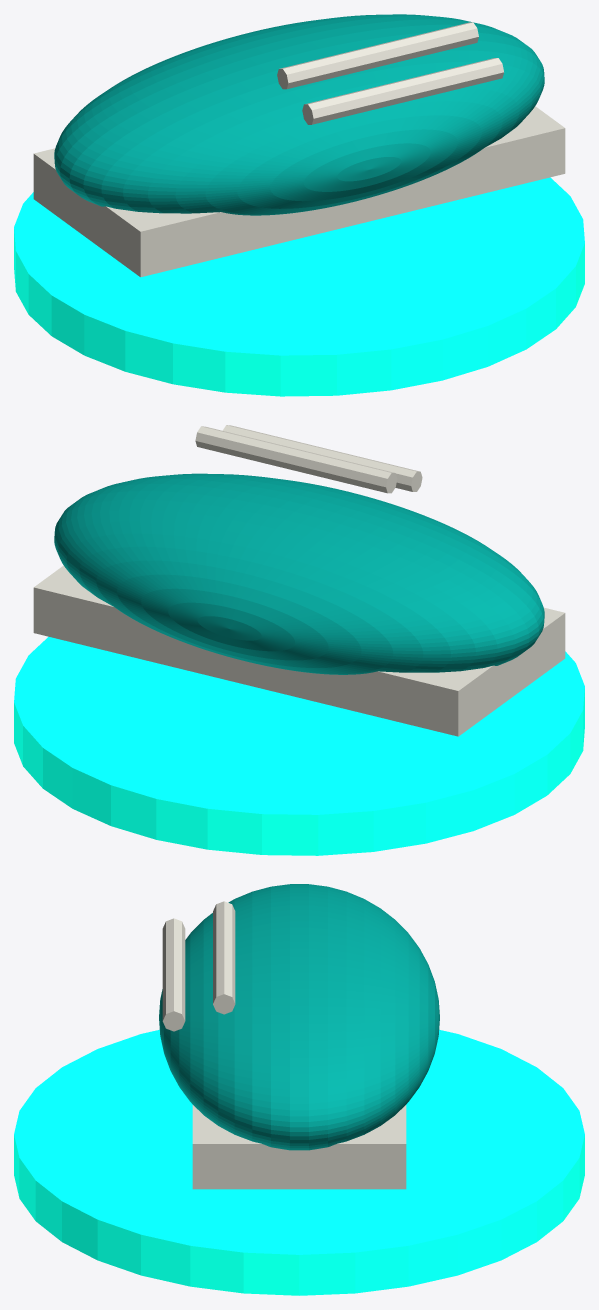
The model's file is fashion_sneaker.dae.
3 renders of one model, top to bottom at view 1: azimuth 30°, elevation 25°; view 2: azimuth 150°, elevation 25°; view 3: azimuth 270°, elevation 25°, orthographic.
Visible parts, largest first — view 1: 06_03_Popular_Fashion_Sneaker_ROOT_base, 06_03_Popular_Fashion_Sneaker_part_01, 06_03_Popular_Fashion_Sneaker_part_02, 06_03_Popular_Fashion_Sneaker_part_04, 06_03_Popular_Fashion_Sneaker_part_03; view 2: 06_03_Popular_Fashion_Sneaker_ROOT_base, 06_03_Popular_Fashion_Sneaker_part_01, 06_03_Popular_Fashion_Sneaker_part_02, 06_03_Popular_Fashion_Sneaker_part_04, 06_03_Popular_Fashion_Sneaker_part_03; view 3: 06_03_Popular_Fashion_Sneaker_ROOT_base, 06_03_Popular_Fashion_Sneaker_part_01, 06_03_Popular_Fashion_Sneaker_part_02, 06_03_Popular_Fashion_Sneaker_part_03, 06_03_Popular_Fashion_Sneaker_part_04.
Part boxes in pixels (<box>): 06_03_Popular_Fashion_Sneaker_ROOT_base: <box>14,177,584,396</box>; 06_03_Popular_Fashion_Sneaker_part_01: <box>54,14,544,215</box>; 06_03_Popular_Fashion_Sneaker_part_02: <box>33,106,565,277</box>; 06_03_Popular_Fashion_Sneaker_part_04: <box>277,22,478,89</box>; 06_03_Popular_Fashion_Sneaker_part_03: <box>302,58,503,124</box>; 06_03_Popular_Fashion_Sneaker_ROOT_base: <box>14,636,584,855</box>; 06_03_Popular_Fashion_Sneaker_part_01: <box>54,473,544,674</box>; 06_03_Popular_Fashion_Sneaker_part_02: <box>33,565,565,736</box>; 06_03_Popular_Fashion_Sneaker_part_04: <box>195,426,397,493</box>; 06_03_Popular_Fashion_Sneaker_part_03: <box>222,425,422,491</box>; 06_03_Popular_Fashion_Sneaker_ROOT_base: <box>14,1030,584,1295</box>; 06_03_Popular_Fashion_Sneaker_part_01: <box>159,884,439,1150</box>; 06_03_Popular_Fashion_Sneaker_part_02: <box>192,1105,406,1189</box>; 06_03_Popular_Fashion_Sneaker_part_03: <box>162,918,185,1031</box>; 06_03_Popular_Fashion_Sneaker_part_04: <box>213,901,235,1014</box>.
Size of the model in its own units: 0.76 by 0.3633 by 0.76.
